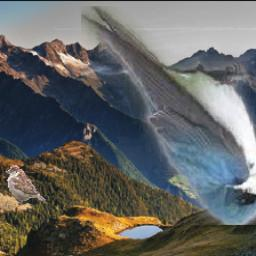Sparrow: (7, 166, 47, 206)
Swallow: (81, 7, 256, 226)
